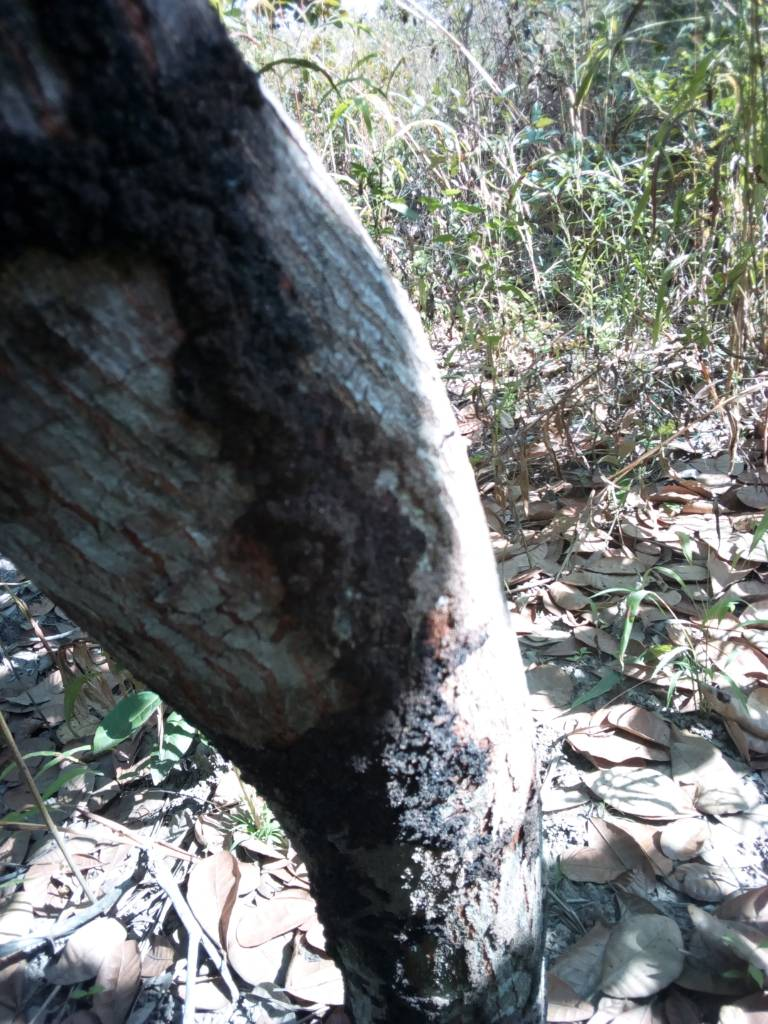Termites: (96, 83, 380, 621), (325, 680, 468, 839)
